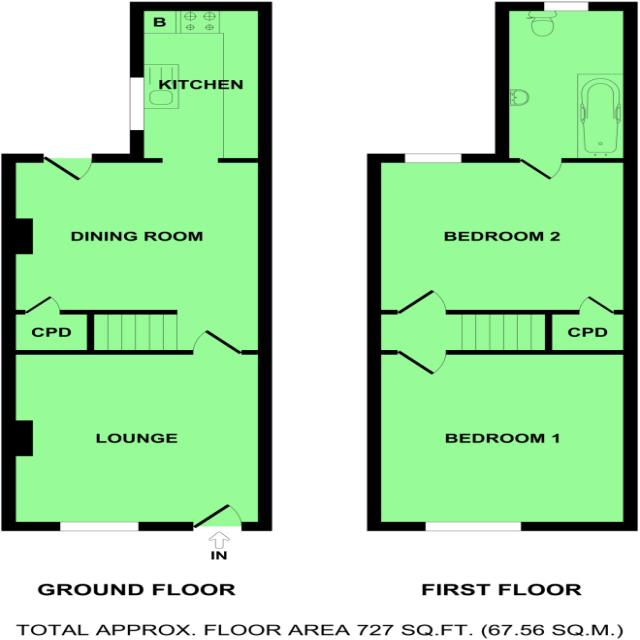DOOR: (40, 153, 97, 183), (393, 349, 449, 377), (189, 327, 243, 356), (393, 288, 450, 315), (516, 158, 565, 182)
ROOM: (0, 1, 272, 353), (366, 349, 640, 531), (367, 154, 638, 315)
WINDOW: (422, 521, 522, 532), (128, 75, 146, 131), (56, 521, 141, 532), (402, 152, 465, 164), (542, 1, 592, 11)
